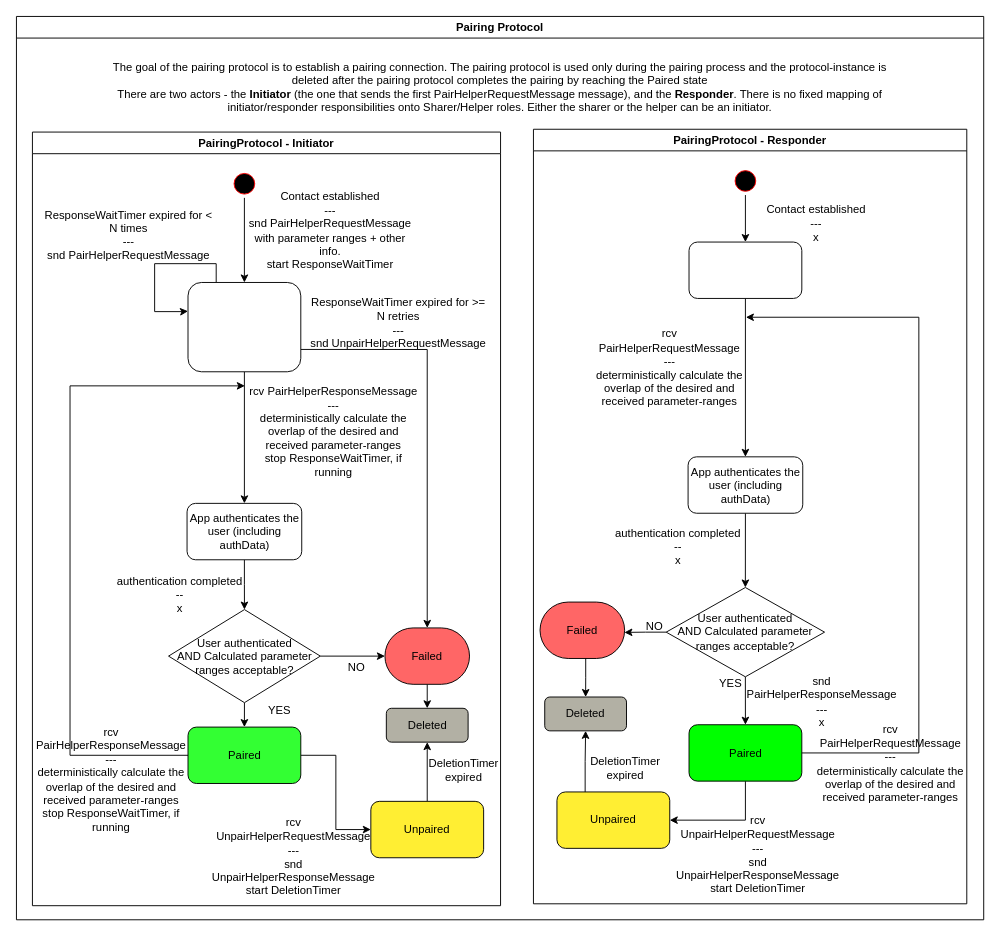
This 1000x936 diagram has some shape labels left out. The shapes that lost their labels are listed below. From the top down, each one's centre as x and y in pixels, then its label:
the point at 745,269: PairingRequestWait
the point at 244,327: PairingRequested
